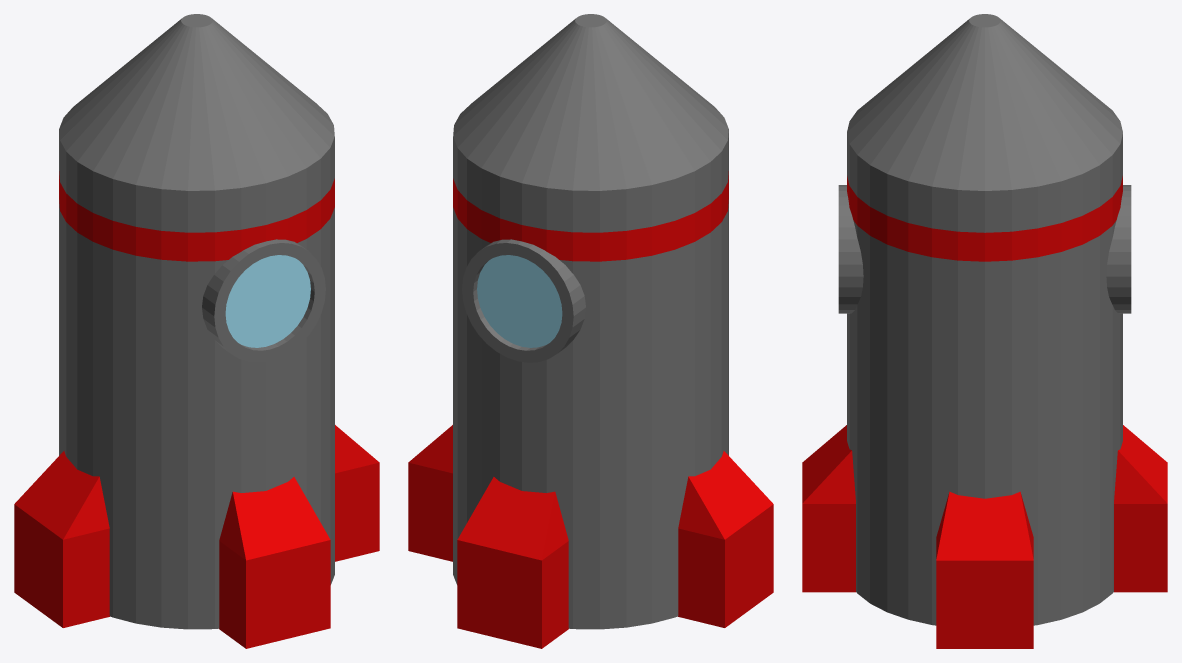
File: rocket.fbx
The picture shows the model from 3 angles, left to right: view 1: azimuth 30°, elevation 25°; view 2: azimuth 150°, elevation 25°; view 3: azimuth 270°, elevation 25°; orthographic projection.
Visible parts, largest first — view 1: rocket; view 2: rocket; view 3: rocket.
Boxes of the visible parts, bbox=[...] form: rocket: bbox=[14, 14, 379, 648]; rocket: bbox=[408, 14, 773, 648]; rocket: bbox=[802, 14, 1167, 648].
Size of the model in its own units: 265 by 440 by 265.
